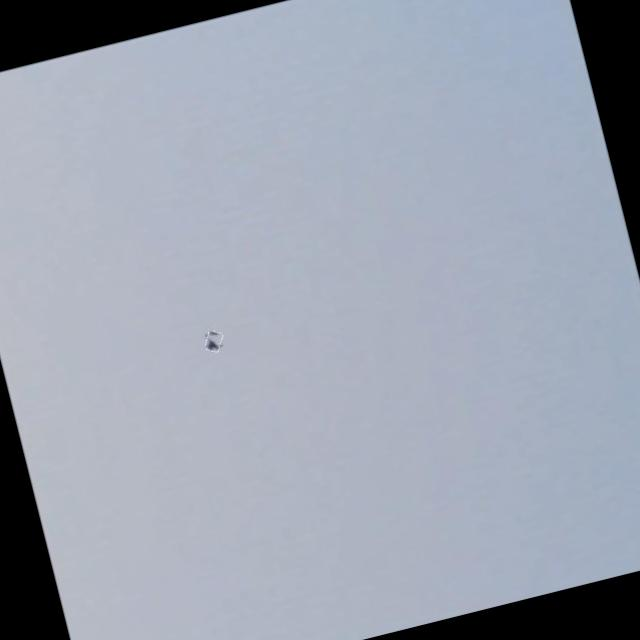UAV: (194, 313, 247, 377)
